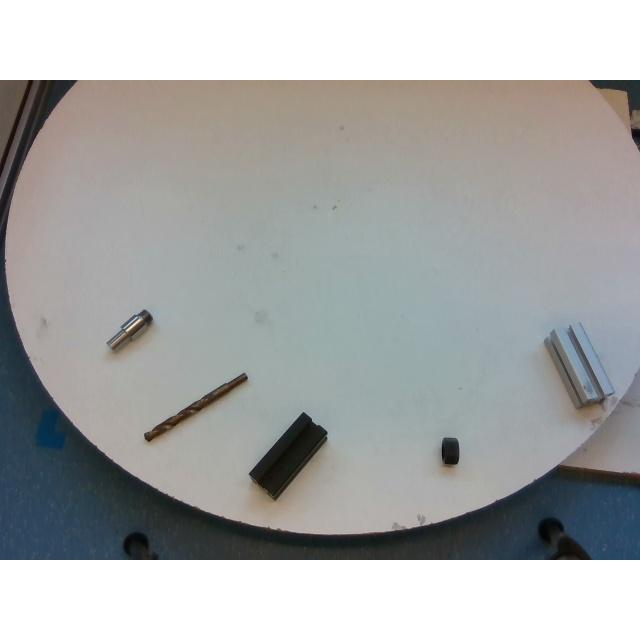Drill: (144, 373, 248, 441)
M20: (440, 438, 460, 466)
S40_40_B: (250, 413, 326, 499)
S40_40_G: (546, 322, 614, 406)
